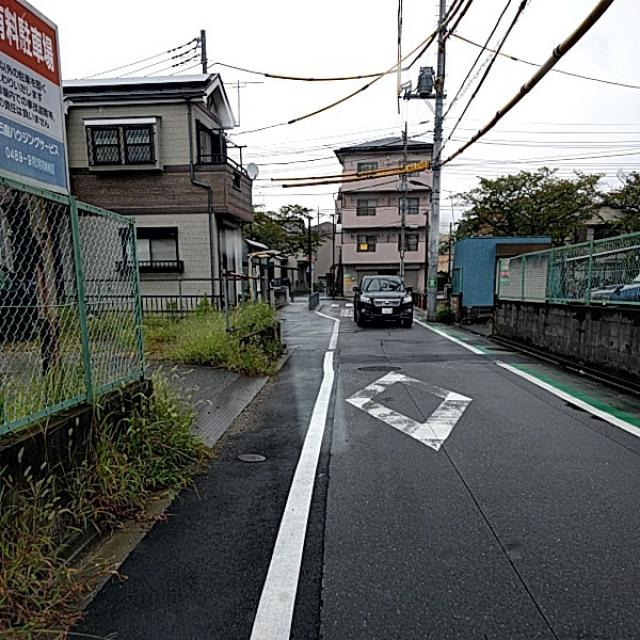pothole: (427, 442, 480, 488)
